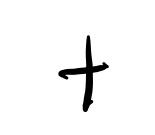plus: (58, 35, 110, 113)
